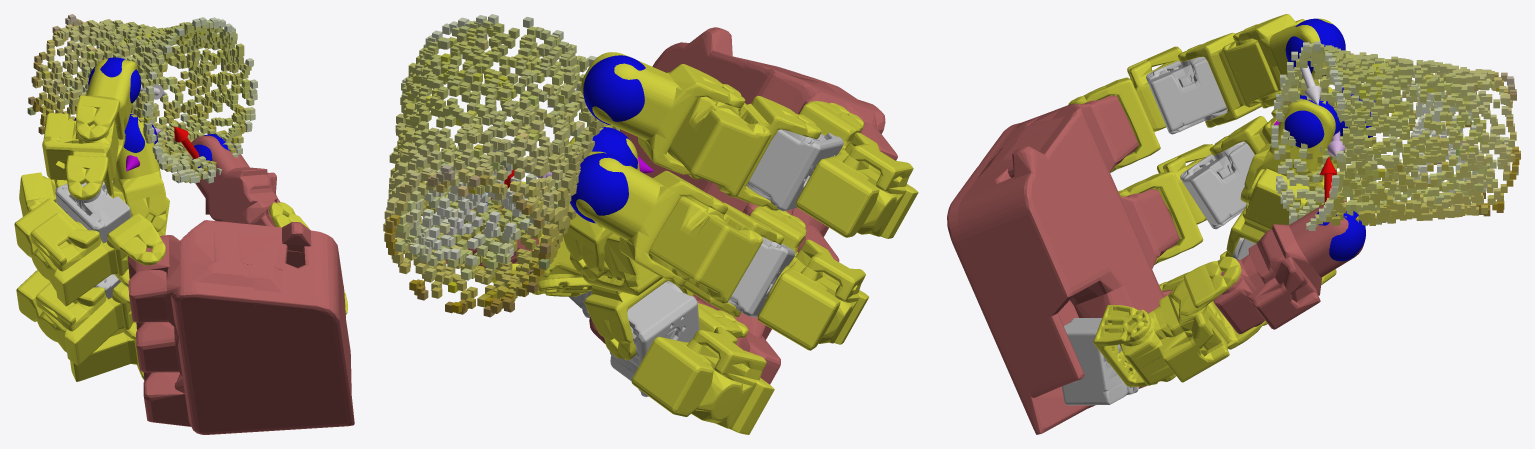
Rendered from hand_opt_res_obj.glb.
The picture shows the model from 3 angles, left to right: view 1: azimuth 30°, elevation 25°; view 2: azimuth 150°, elevation 25°; view 3: azimuth 270°, elevation 25°; orthographic projection. The views are drawn at different scales.
Parts seen in each view (by area): view 1: world; view 2: world; view 3: world.
Part boxes in pixels (bbox=[...]): world: bbox=[14, 14, 354, 434]; world: bbox=[383, 14, 918, 434]; world: bbox=[947, 14, 1520, 434].
Size of the model in its own units: 0.1781 by 0.1849 by 0.255.
